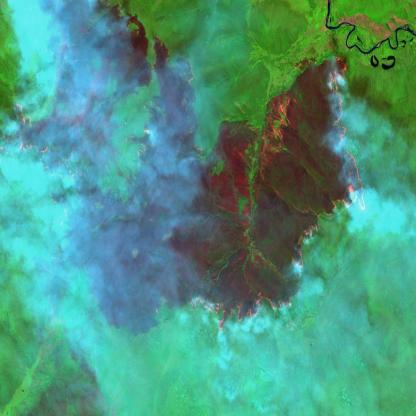fire: (0, 52, 369, 336)
